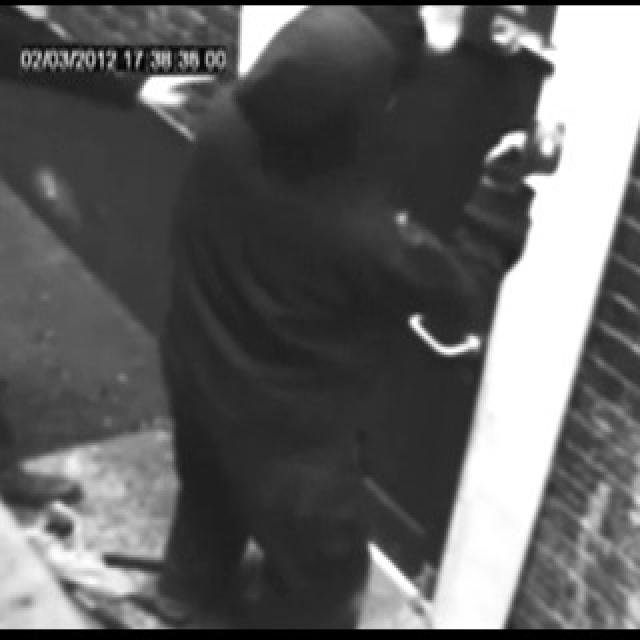thief: (216, 0, 398, 200)
